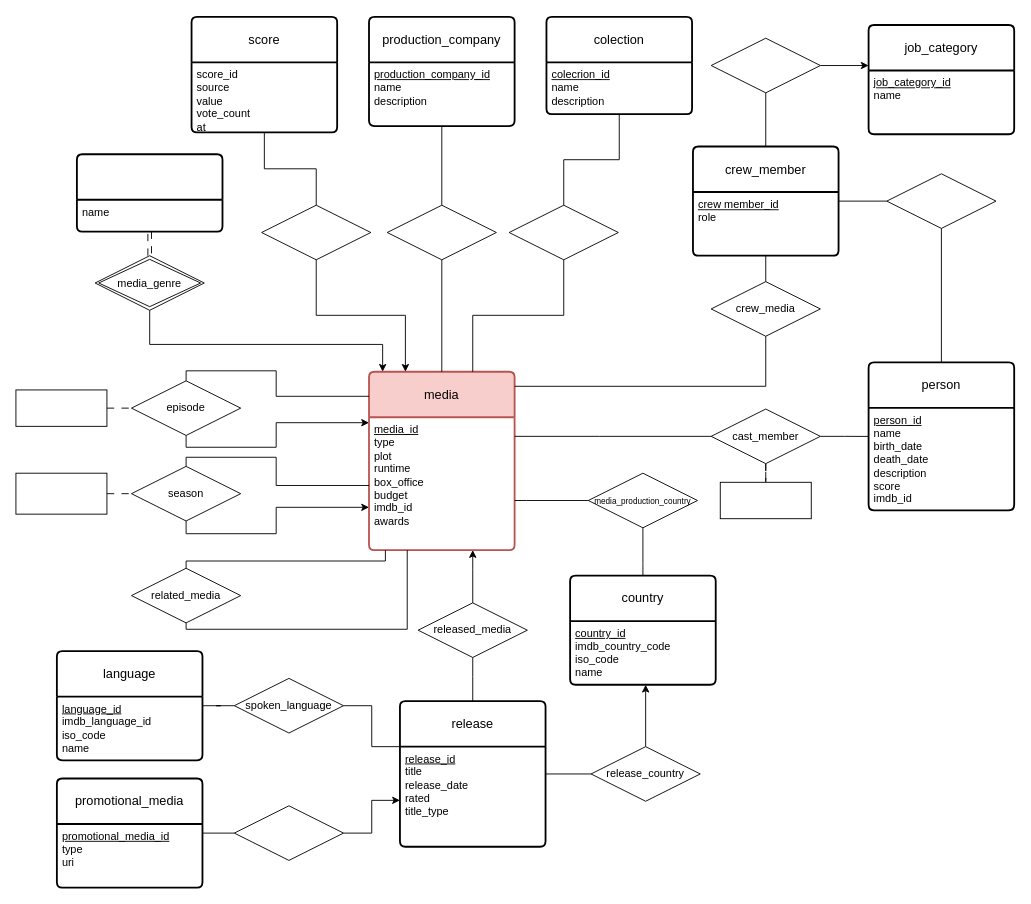
The diagram is 1031 pixels wide and 904 high, and some of its shapes have lost their labels. The box of each missing label's shape, as (x1, y1, x2, y2) in pixels:
crew_job: (710, 37, 820, 93)
crew_person: (886, 173, 996, 228)
episode_number: (15, 389, 107, 426)
genre: (76, 153, 223, 232)
media_collecrion: (508, 204, 618, 260)
media_production_company: (386, 204, 496, 260)
media_score: (261, 204, 371, 260)
promotional_media_release: (233, 805, 344, 860)
role character: (719, 481, 811, 519)
status season_number end_date: (15, 472, 107, 514)
